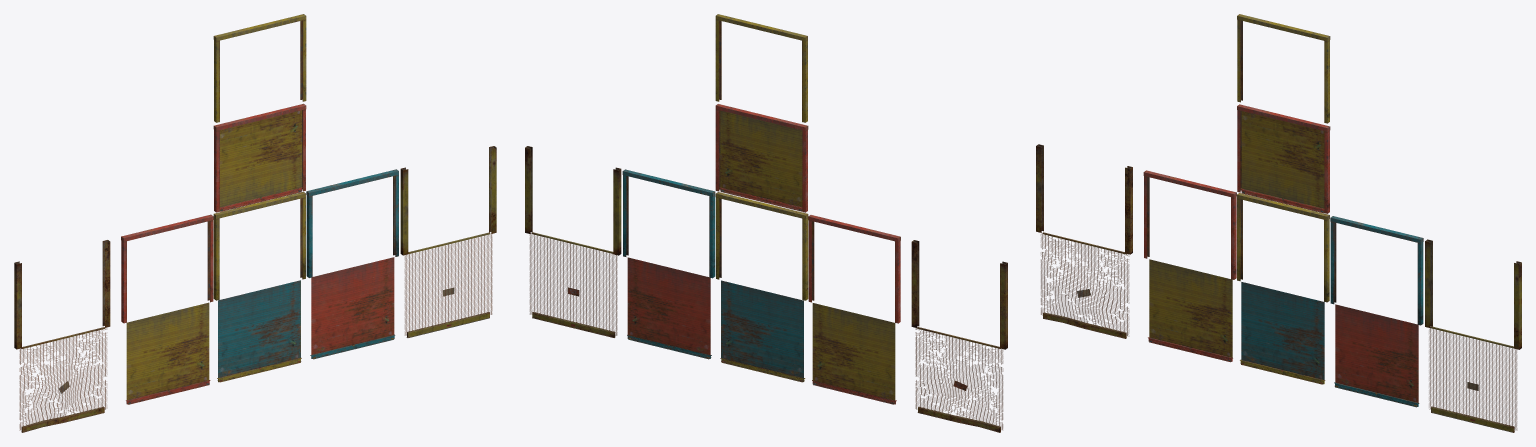
The model's file is gates_colour.glb.
3 views of the same model, side by side, from view 1: azimuth 30°, elevation 25°; view 2: azimuth 150°, elevation 25°; view 3: azimuth 330°, elevation 25° (orthographic).
Visible parts, largest first — view 1: SM_RollUpDoor_C_Red.mo, SM_RollUpDoor_C_Yellow.mo, SM_RollUpDoor_C_Blue.mo, SM_RollUpDoor_E.mo, SM_RollUp_Door_A.mo, SM_RollUp_Door_B.mo, SM_RollUpDoor_C_Frame_Yellow.mo, SM_RollUpDoor_D_Frame_Blue.mo, SM_RollUpDoor_C_Frame_Red.mo, SM_RollUpDoor_D_Frame_Yellow.mo, SM_RollUp_Frame_A.mo, SM_RollUp_Frame_B.mo (+1 smaller); view 2: SM_RollUpDoor_C_Red.mo, SM_RollUpDoor_C_Yellow.mo, SM_RollUpDoor_C_Blue.mo, SM_RollUpDoor_E.mo, SM_RollUp_Door_A.mo, SM_RollUp_Door_B.mo, SM_RollUpDoor_D_Frame_Blue.mo, SM_RollUpDoor_D_Frame_Yellow.mo, SM_RollUpDoor_C_Frame_Yellow.mo, SM_RollUpDoor_C_Frame_Red.mo, SM_RollUpDoor_C_Frame_Blue.mo, SM_RollUp_Frame_A.mo (+1 smaller); view 3: SM_RollUpDoor_C_Blue.mo, SM_RollUpDoor_C_Yellow.mo, SM_RollUpDoor_C_Red.mo, SM_RollUpDoor_E.mo, SM_RollUp_Door_A.mo, SM_RollUp_Door_B.mo, SM_RollUpDoor_D_Frame_Blue.mo, SM_RollUpDoor_C_Frame_Yellow.mo, SM_RollUpDoor_C_Frame_Red.mo, SM_RollUpDoor_D_Frame_Yellow.mo, SM_RollUpDoor_C_Frame_Blue.mo, SM_RollUp_Frame_B.mo (+1 smaller).
Boxes of the visible parts, <box> form: SM_RollUpDoor_C_Red.mo: <box>310,257,395,359</box>; SM_RollUpDoor_C_Yellow.mo: <box>126,302,210,404</box>; SM_RollUpDoor_C_Blue.mo: <box>217,280,301,382</box>; SM_RollUpDoor_E.mo: <box>220,110,302,211</box>; SM_RollUp_Door_A.mo: <box>404,232,492,337</box>; SM_RollUp_Door_B.mo: <box>19,327,107,432</box>; SM_RollUpDoor_C_Frame_Yellow.mo: <box>213,14,306,122</box>; SM_RollUpDoor_D_Frame_Blue.mo: <box>306,169,398,277</box>; SM_RollUpDoor_C_Frame_Red.mo: <box>121,214,213,323</box>; SM_RollUpDoor_D_Frame_Yellow.mo: <box>213,192,305,300</box>; SM_RollUp_Frame_A.mo: <box>400,146,496,255</box>; SM_RollUp_Frame_B.mo: <box>14,240,110,349</box>; SM_RollUpDoor_C_Red.mo: <box>627,257,711,359</box>; SM_RollUpDoor_C_Yellow.mo: <box>812,303,896,404</box>; SM_RollUpDoor_C_Blue.mo: <box>720,280,805,382</box>; SM_RollUpDoor_E.mo: <box>720,110,802,211</box>; SM_RollUp_Door_A.mo: <box>529,232,617,337</box>; SM_RollUp_Door_B.mo: <box>915,327,1003,432</box>; SM_RollUpDoor_D_Frame_Blue.mo: <box>622,169,715,278</box>; SM_RollUpDoor_D_Frame_Yellow.mo: <box>715,192,808,300</box>; SM_RollUpDoor_C_Frame_Yellow.mo: <box>715,14,807,122</box>; SM_RollUpDoor_C_Frame_Red.mo: <box>808,215,900,323</box>; SM_RollUpDoor_C_Frame_Blue.mo: <box>715,104,808,212</box>; SM_RollUp_Frame_A.mo: <box>525,146,621,255</box>; SM_RollUpDoor_C_Blue.mo: <box>1240,282,1325,384</box>; SM_RollUpDoor_C_Yellow.mo: <box>1148,259,1232,362</box>; SM_RollUpDoor_C_Red.mo: <box>1334,304,1419,407</box>; SM_RollUpDoor_E.mo: <box>1241,111,1324,212</box>; SM_RollUp_Door_A.mo: <box>1429,326,1517,432</box>; SM_RollUp_Door_B.mo: <box>1041,232,1129,338</box>; SM_RollUpDoor_D_Frame_Blue.mo: <box>1330,216,1423,325</box>; SM_RollUpDoor_C_Frame_Yellow.mo: <box>1237,14,1330,123</box>; SM_RollUpDoor_C_Frame_Red.mo: <box>1143,170,1236,279</box>; SM_RollUpDoor_D_Frame_Yellow.mo: <box>1237,193,1329,302</box>; SM_RollUpDoor_C_Frame_Blue.mo: <box>1237,104,1330,213</box>; SM_RollUp_Frame_B.mo: <box>1036,144,1132,254</box>.
Bounding box in the file's own units: 17.09 × 11.85 × 0.2662.
Materials: 15 (15 with a texture image).
